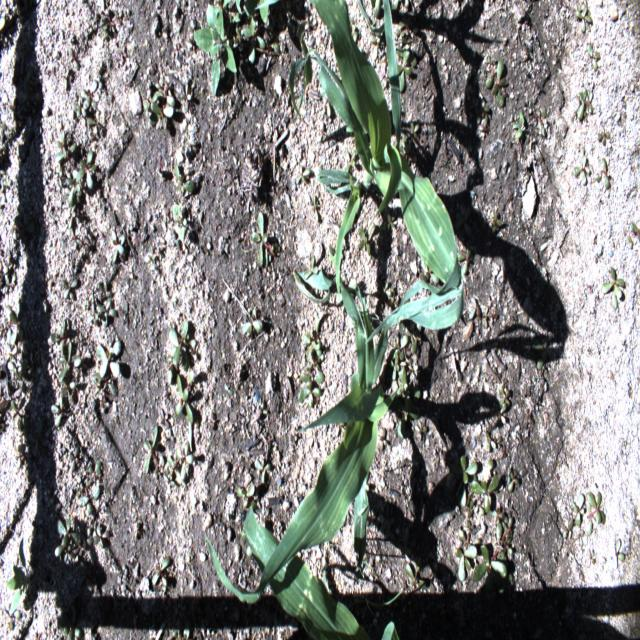crop: (206, 267, 401, 606), (288, 0, 462, 343), (245, 501, 401, 639)
weed: (193, 0, 270, 97), (474, 516, 514, 582), (566, 491, 606, 535), (455, 503, 476, 583), (390, 387, 421, 438), (251, 211, 276, 269), (169, 319, 195, 371), (145, 84, 174, 126), (471, 474, 499, 517), (484, 54, 506, 108), (298, 363, 324, 407), (602, 266, 626, 309), (175, 374, 194, 424), (96, 339, 120, 378), (302, 316, 322, 361), (451, 455, 478, 485), (394, 49, 412, 93)
